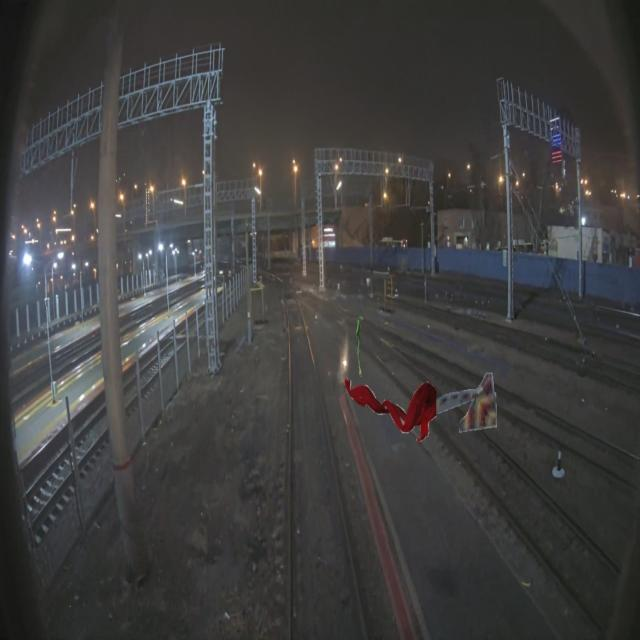floating object: (343, 378, 436, 442), (428, 369, 502, 433), (356, 316, 362, 380)
